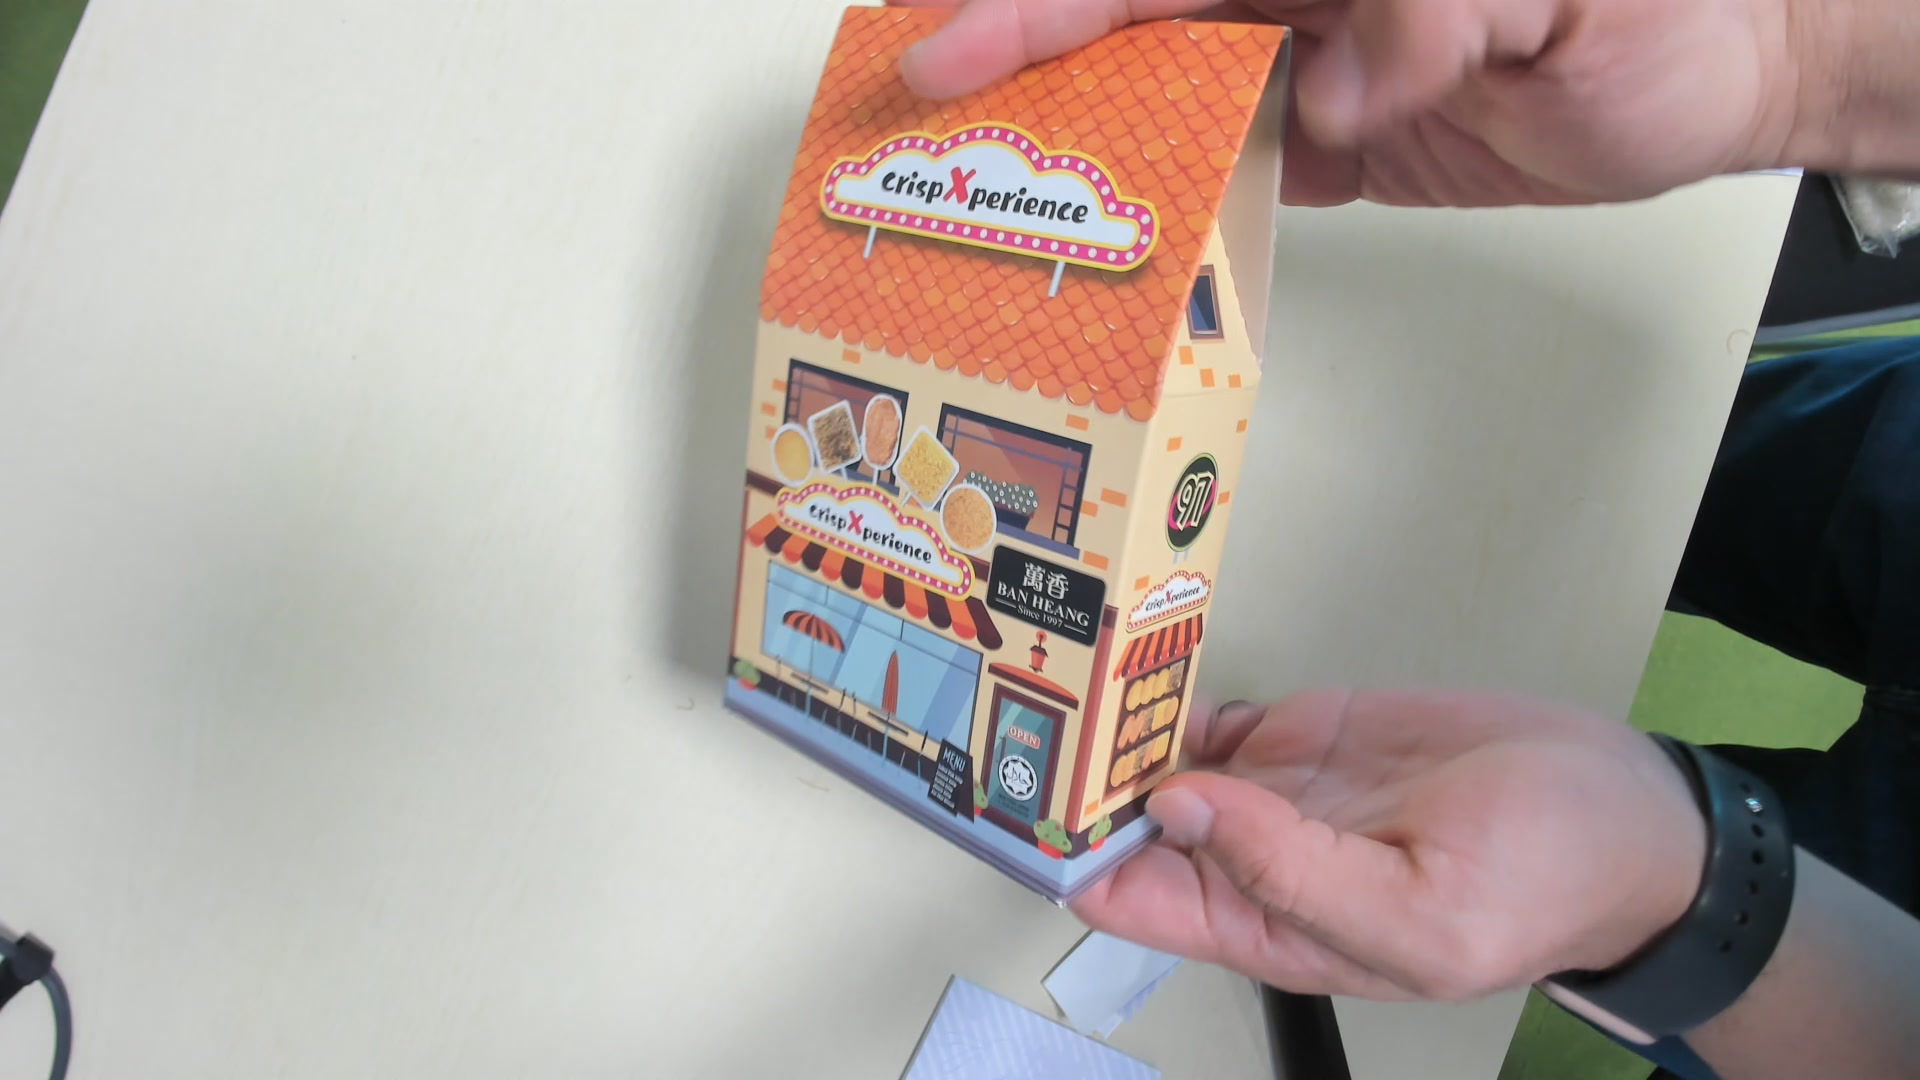SweetsChocolatesOthers_0-99g_Halal_Nonhealthy: (713, 5, 1282, 899)
